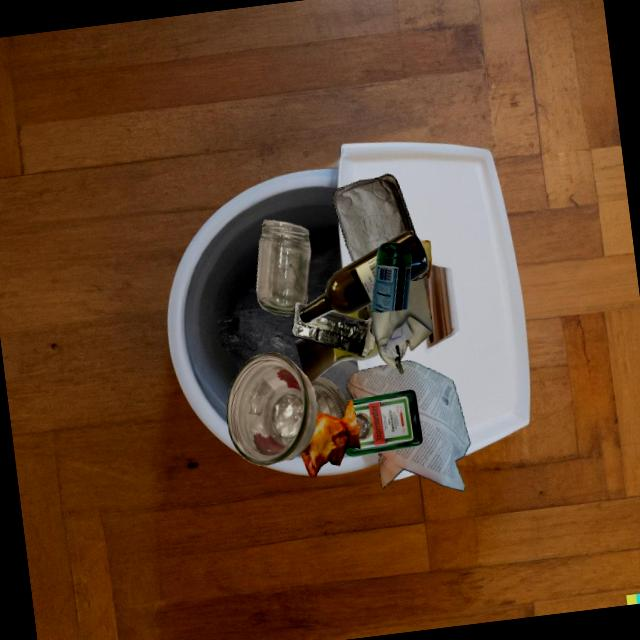biowaste: (300, 398, 360, 477), (420, 240, 431, 278)
glass: (226, 351, 317, 465), (298, 245, 380, 323), (344, 389, 423, 457), (256, 219, 311, 316), (295, 338, 379, 383), (370, 242, 412, 312), (384, 230, 428, 281), (310, 376, 347, 419)
metal: (332, 173, 416, 262)
paper: (346, 360, 470, 491), (368, 277, 433, 375)
plastic: (292, 301, 374, 356)
